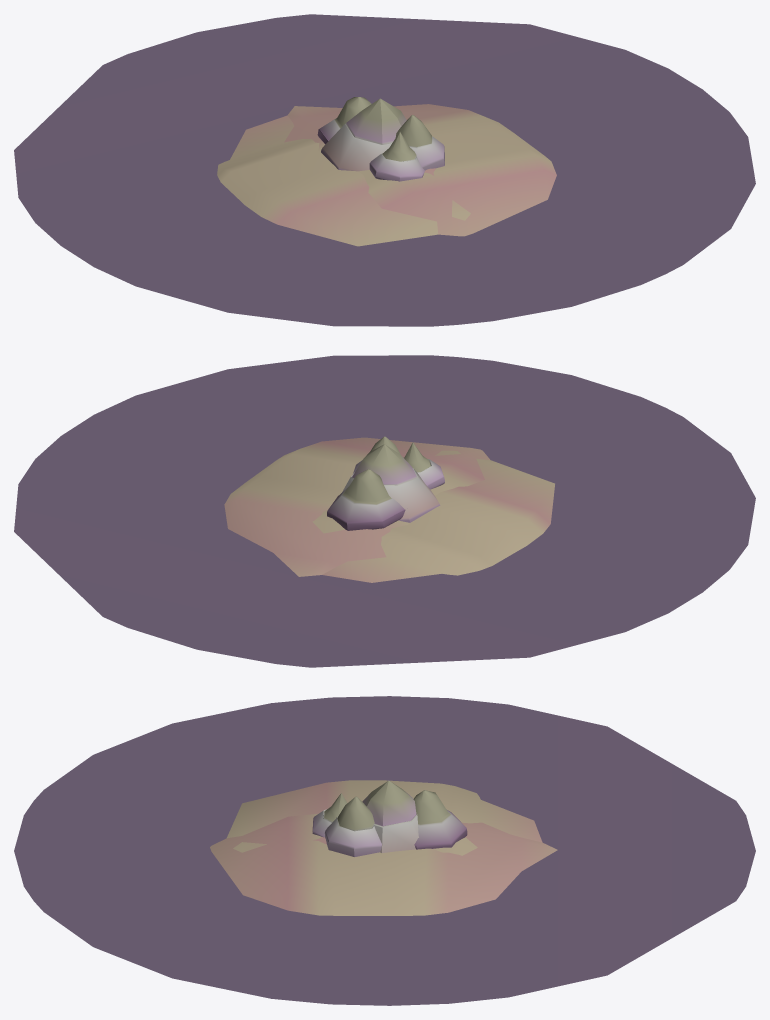
The picture shows the model from 3 angles, top to bottom: view 1: azimuth 30°, elevation 25°; view 2: azimuth 150°, elevation 25°; view 3: azimuth 270°, elevation 25°; orthographic projection.
Parts seen in each view (by area): view 1: Island1_0000; view 2: Island1_0000; view 3: Island1_0000.
Part boxes in pixels (x1=…): Island1_0000: x1=14, y1=14, x2=755, y2=326; Island1_0000: x1=14, y1=355, x2=755, y2=667; Island1_0000: x1=14, y1=696, x2=755, y2=1005.
Size of the model in its own units: 208 by 48.8 by 210.
